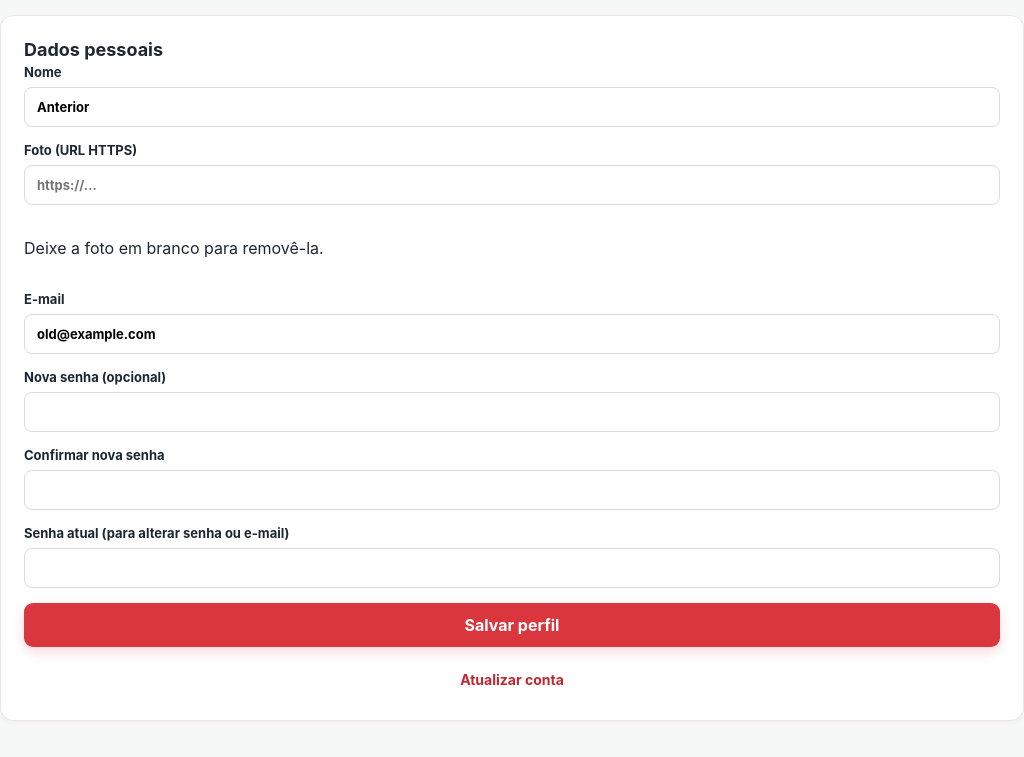
Test: informa sucesso parcial quando Firebase salva mas o banco falha
This screenshot has width=1024, height=757.
Click the button "Salvar perfil".
click(512, 625)  # box [24, 603, 1000, 647]
(page scrolled)
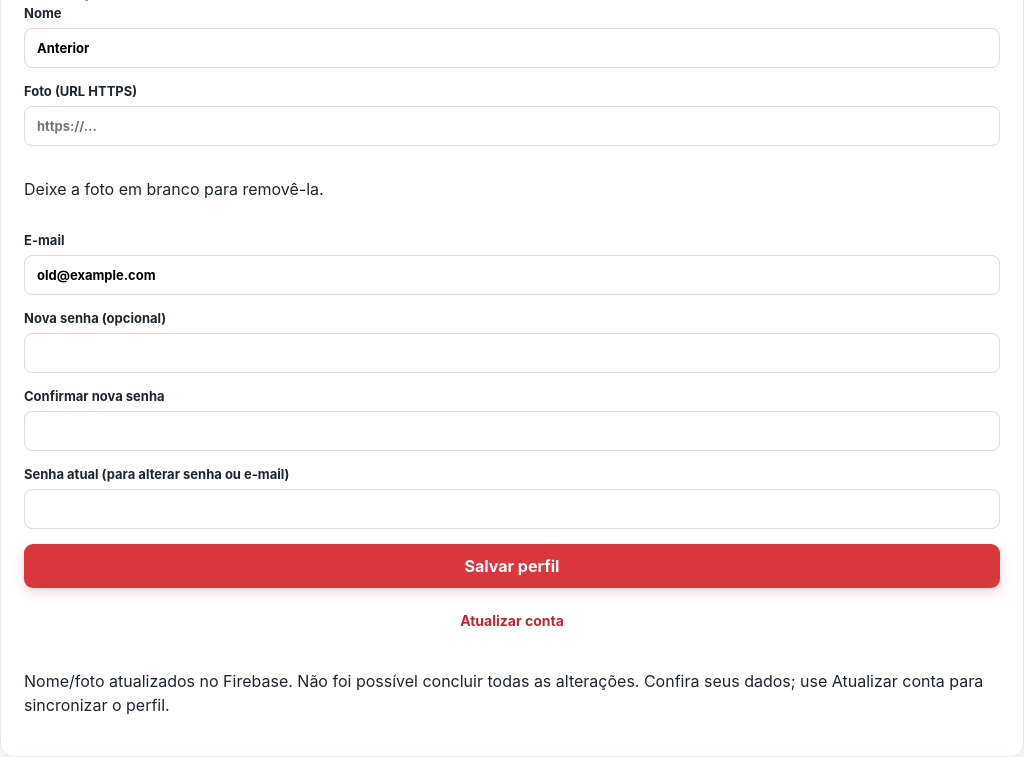
Now the message shows "Nome/foto atualizados no Firebase", box [24, 671, 983, 715]
